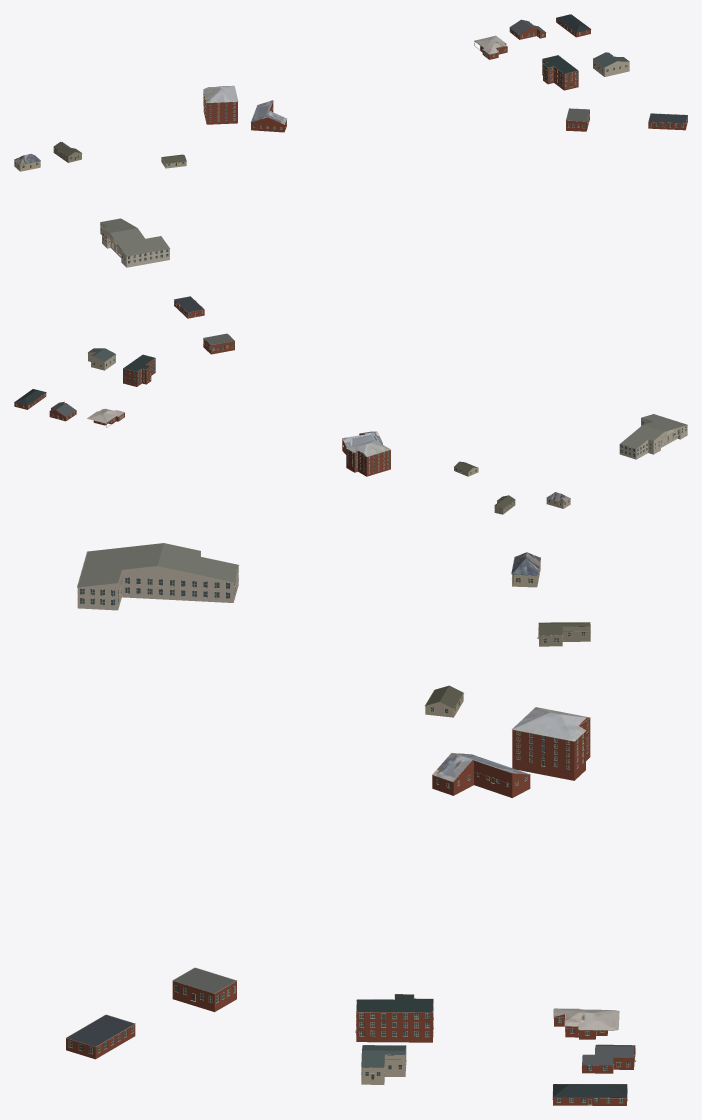
The picture shows the model from 3 angles, top to bottom: view 1: azimuth 30°, elevation 25°; view 2: azimuth 150°, elevation 25°; view 3: azimuth 270°, elevation 25°; orthographic projection. The views are drawn at different scales.
Parts seen in each view (by area): view 1: -3_-2_318286270_0, -3_-2_318522577_1, -3_-2_623907360_4, -3_-2_624482551_32; view 2: -3_-2_318286270_0, -3_-2_318522577_1, -3_-2_623907360_4; view 3: -3_-2_318286270_0, -3_-2_318522577_1, -3_-2_623907360_4, -3_-2_624482551_32.
Boxes of the visible parts, x1,y1,x2,y2 form: -3_-2_318286270_0: (14,14,687,267); -3_-2_318522577_1: (203,18,687,132); -3_-2_623907360_4: (14,35,507,171); -3_-2_624482551_32: (593,59,629,76); -3_-2_318286270_0: (14,296,687,510); -3_-2_318522577_1: (14,300,390,476); -3_-2_623907360_4: (87,408,570,508); -3_-2_318286270_0: (66,543,636,1105); -3_-2_318522577_1: (66,717,635,1105); -3_-2_623907360_4: (425,552,619,1030); -3_-2_624482551_32: (361,1047,406,1084).
Size of the model in its own units: 451 by 26.79 by 207.
18 materials, 1 textured.
